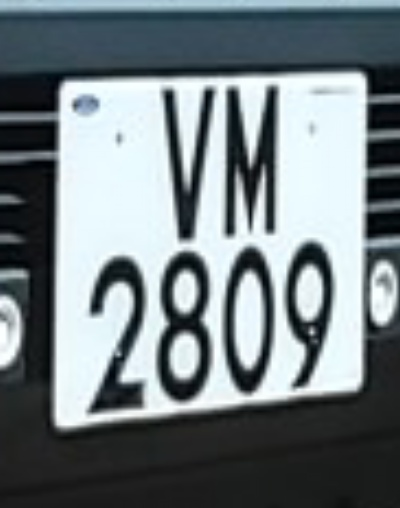0: (211, 231, 286, 413)
2: (78, 237, 158, 427)
8: (146, 238, 222, 418)
9: (274, 218, 346, 410)
M: (216, 60, 297, 247)
V: (145, 66, 224, 252)
